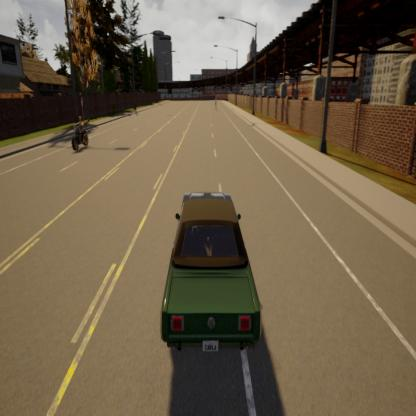Cars: (157, 176, 278, 367)
